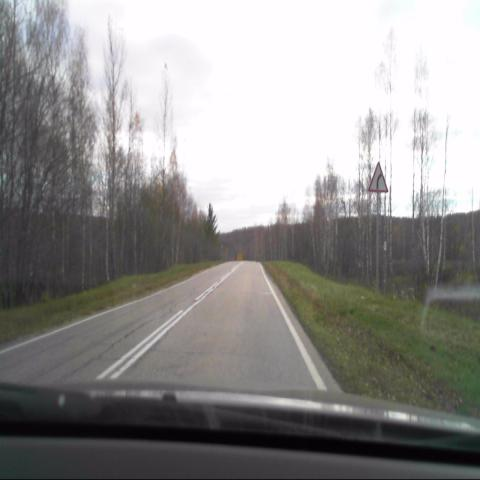1_11: (368, 161, 388, 193)
